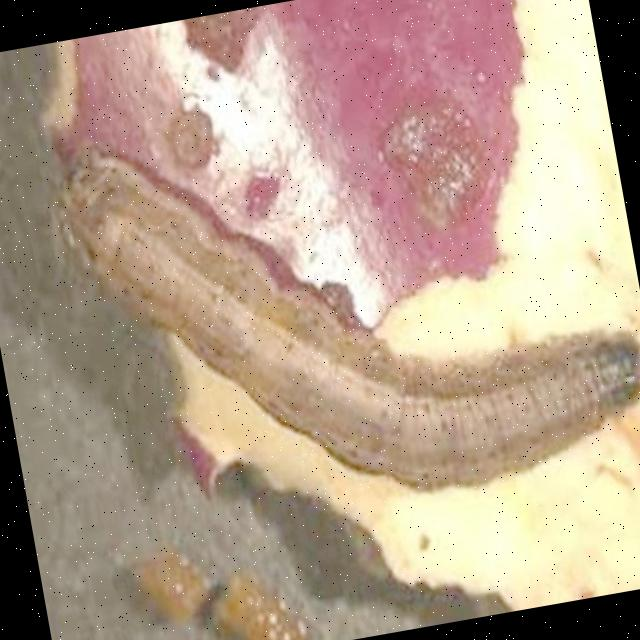worm: (45, 58, 640, 555)
